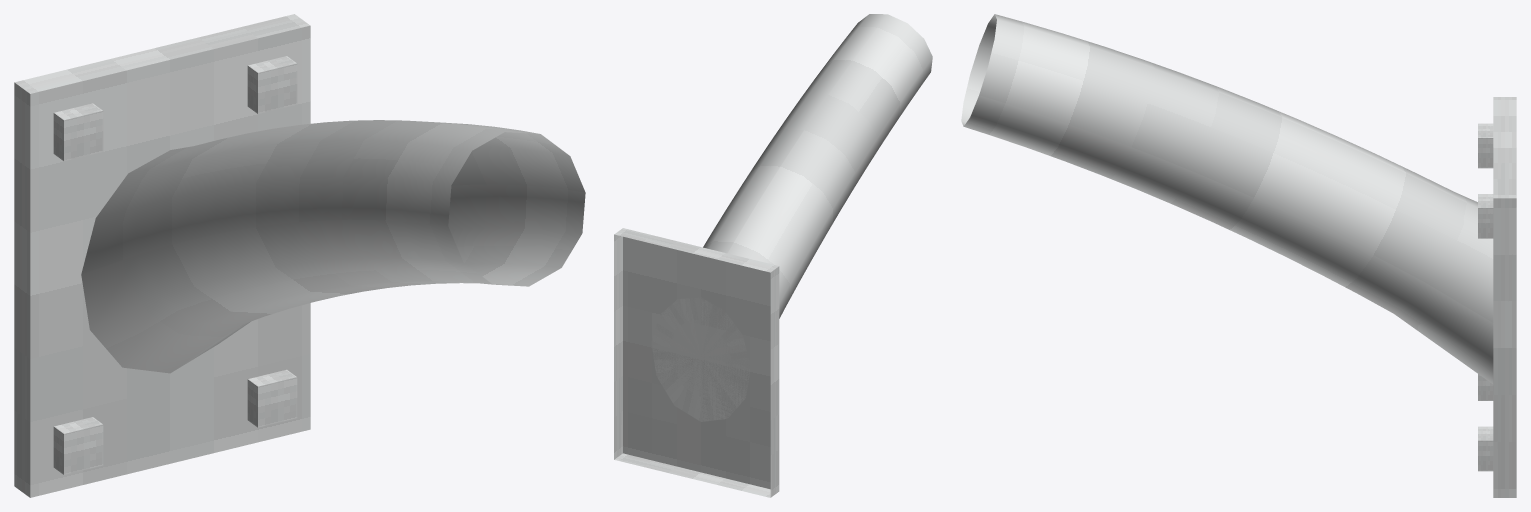
The model's file is luminairearm_caltrans6ftdouble_c3_wall.obj.
3 views of the same model, side by side, from view 1: azimuth 30°, elevation 25°; view 2: azimuth 150°, elevation 25°; view 3: azimuth 270°, elevation 25° (orthographic). The views are drawn at different scales.
Visible parts, largest first — view 1: luminairearm_caltrans6ftdouble_c3_wall; view 2: luminairearm_caltrans6ftdouble_c3_wall; view 3: luminairearm_caltrans6ftdouble_c3_wall.
Boxes of the visible parts, bbox=[...] form: luminairearm_caltrans6ftdouble_c3_wall: bbox=[14, 14, 585, 497]; luminairearm_caltrans6ftdouble_c3_wall: bbox=[614, 14, 932, 497]; luminairearm_caltrans6ftdouble_c3_wall: bbox=[961, 14, 1516, 497].
Size of the model in its own units: 0.4465 by 0.8776 by 1.03.
